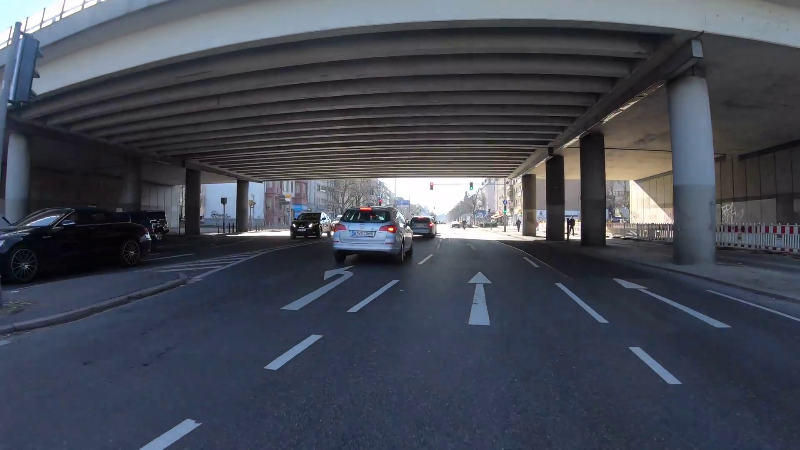Plate: (348, 230, 374, 238)
